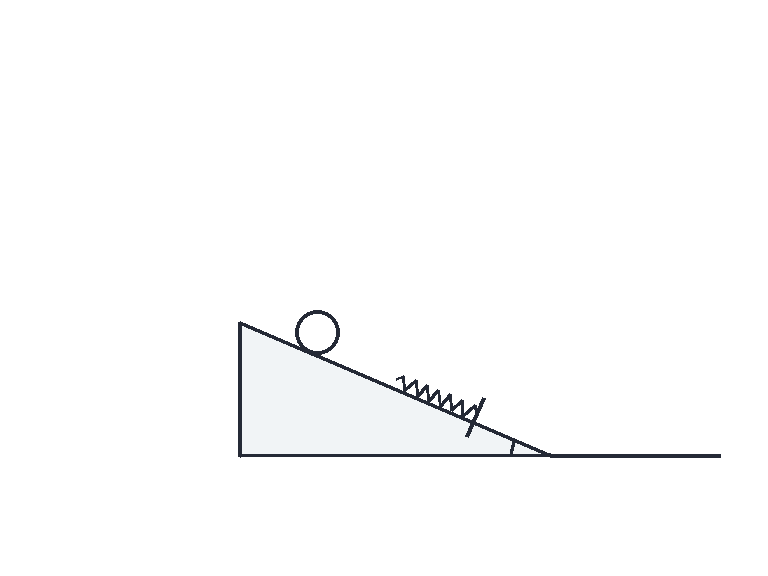ball: (293, 308, 341, 356)
ramp: (238, 321, 553, 457)
spring: (394, 373, 479, 417)
